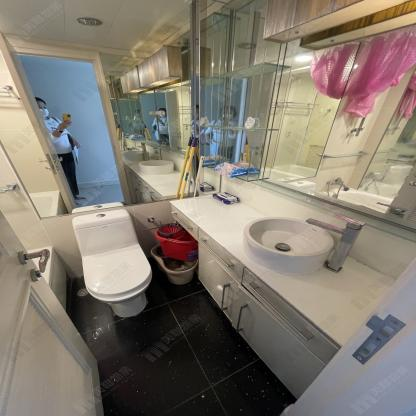Toilet: (72, 208, 153, 319)
Toilet Sink: (242, 214, 337, 269)
